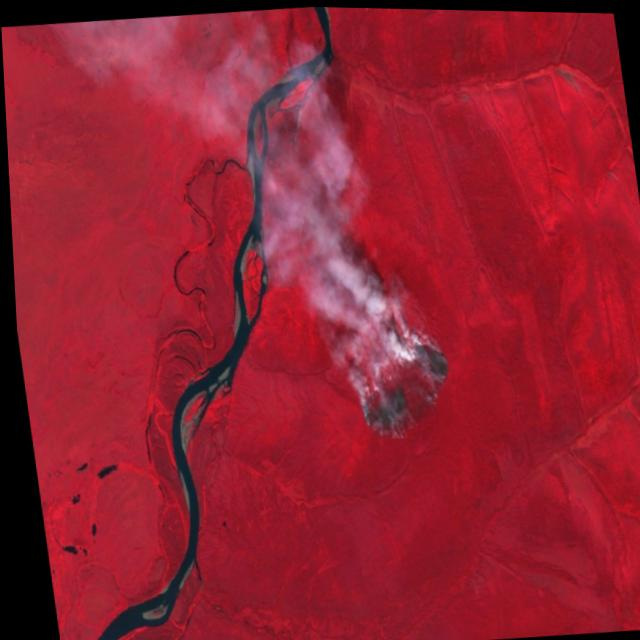fire: (342, 323, 460, 444)
